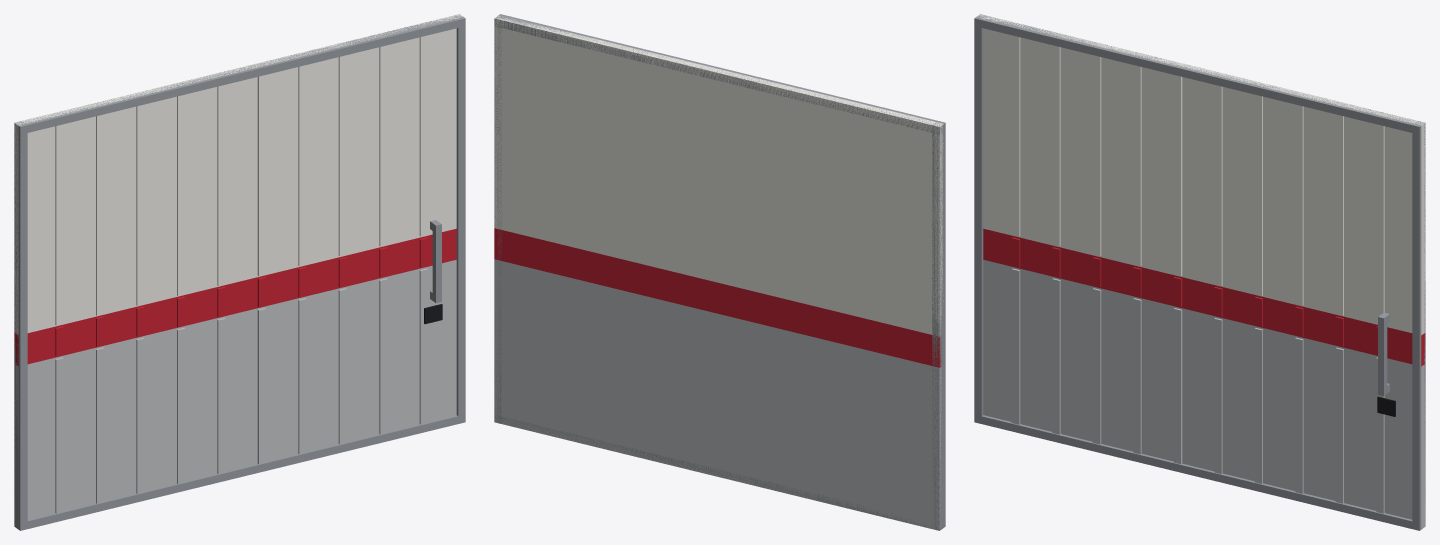
File: Puerta_corrediza_izq.obj
3 renders of one model, left to right at view 1: azimuth 30°, elevation 25°; view 2: azimuth 150°, elevation 25°; view 3: azimuth 330°, elevation 25°, orthographic.
Parts seen in each view (by area): view 1: Puerta_corrediza; view 2: Puerta_corrediza; view 3: Puerta_corrediza.
Part boxes in pixels (<box>): Puerta_corrediza: <box>14,14,465,530</box>; Puerta_corrediza: <box>494,14,945,530</box>; Puerta_corrediza: <box>974,14,1425,530</box>.
Size of the model in its own units: 3 by 2.6 by 0.14.
Materials: 5 (5 with a texture image).
